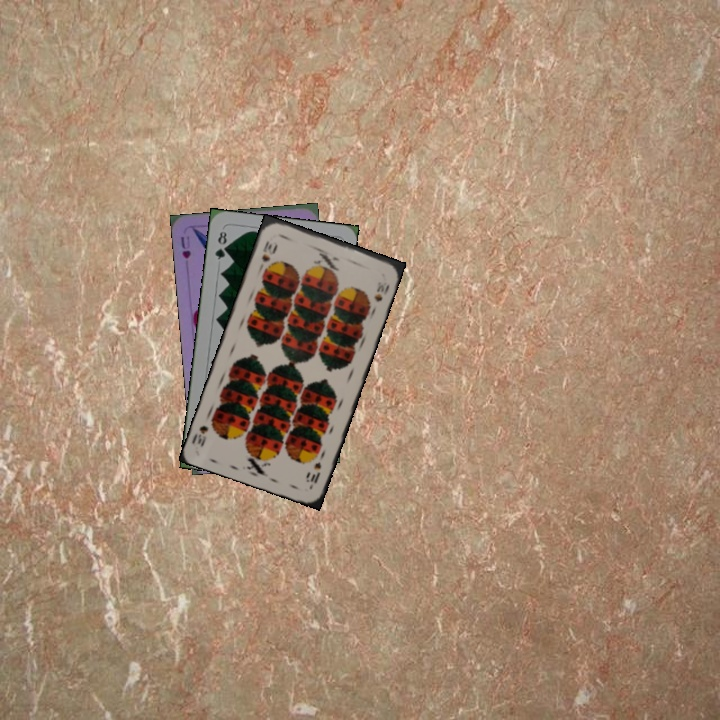G8: (211, 227, 230, 262)
HU: (177, 232, 193, 261)
S10: (255, 237, 279, 272), (303, 458, 324, 486)
